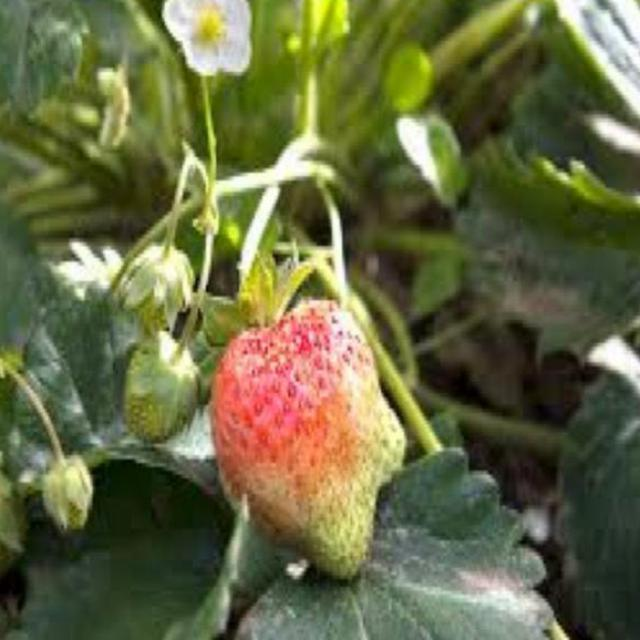Healthy Fruit: (208, 297, 407, 580)
